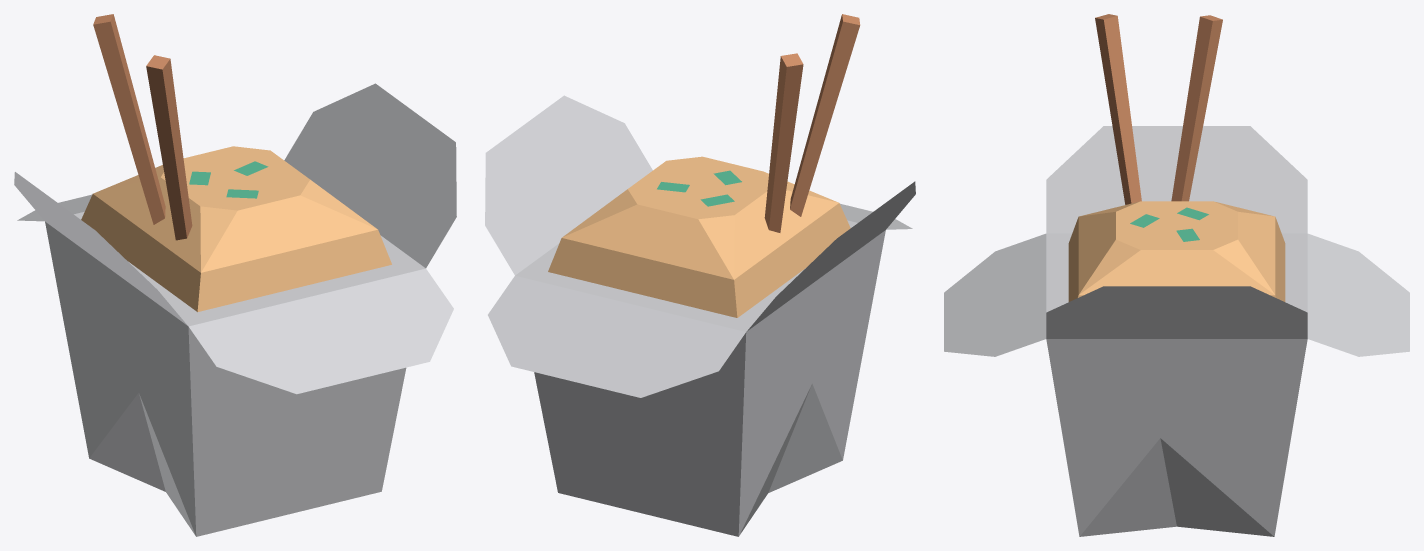
Rendered from chinese.fbx.
The picture shows the model from 3 angles, left to right: view 1: azimuth 30°, elevation 25°; view 2: azimuth 150°, elevation 25°; view 3: azimuth 270°, elevation 25°; orthographic projection. The views are drawn at different scales.
Parts seen in each view (by area): view 1: chinese, chopstick (×2); view 2: chinese, chopstick (×2); view 3: chinese, chopstick (×2).
Part boxes in pixels (box(x1,y1,x2,y2)): chinese: box(14, 83, 456, 536); chopstick (×2): box(93, 14, 192, 240); chinese: box(485, 95, 915, 536); chopstick (×2): box(764, 14, 860, 232); chinese: box(944, 126, 1409, 536); chopstick (×2): box(1095, 14, 1222, 204).
Size of the model in its own units: 4.54 by 5.67 by 5.58.
